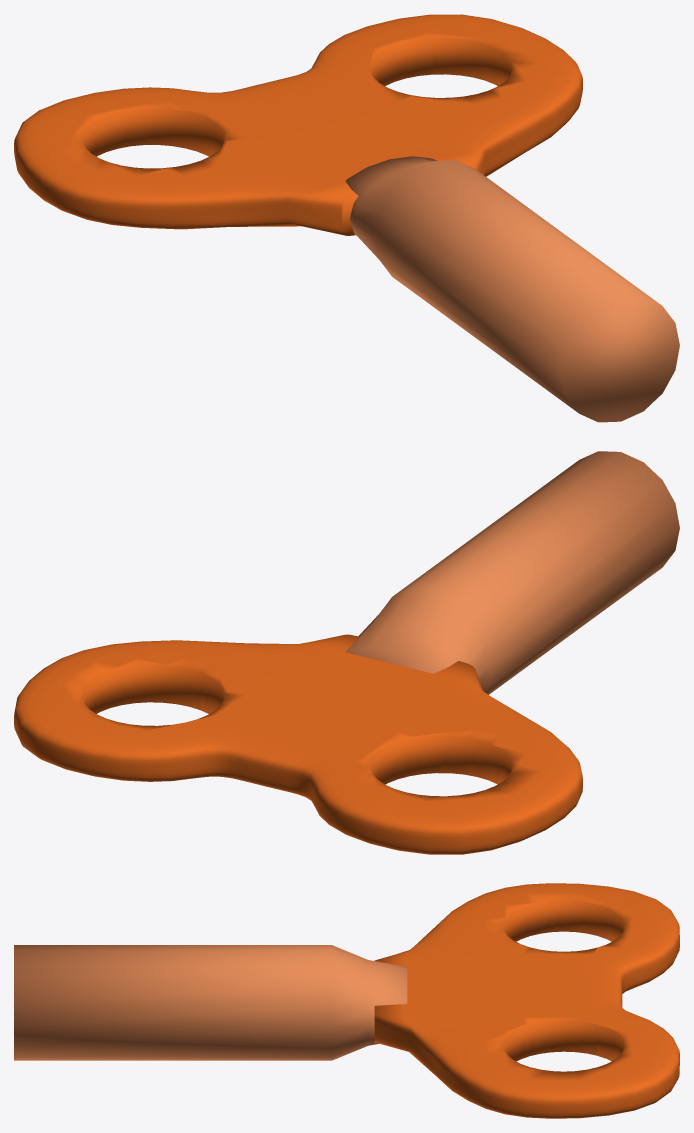
3 views of the same model, one above another, from view 1: azimuth 30°, elevation 25°; view 2: azimuth 150°, elevation 25°; view 3: azimuth 270°, elevation 25° (orthographic). The views are drawn at different scales.
Parts seen in each view (by area): view 1: string; view 2: string; view 3: string.
Boxes of the visible parts, x1,y1,x2,y2 form: string: (14, 14, 679, 422); string: (14, 451, 679, 854); string: (14, 883, 679, 1118).
Size of the model in its own units: 35.74 by 8.04 by 46.25.
